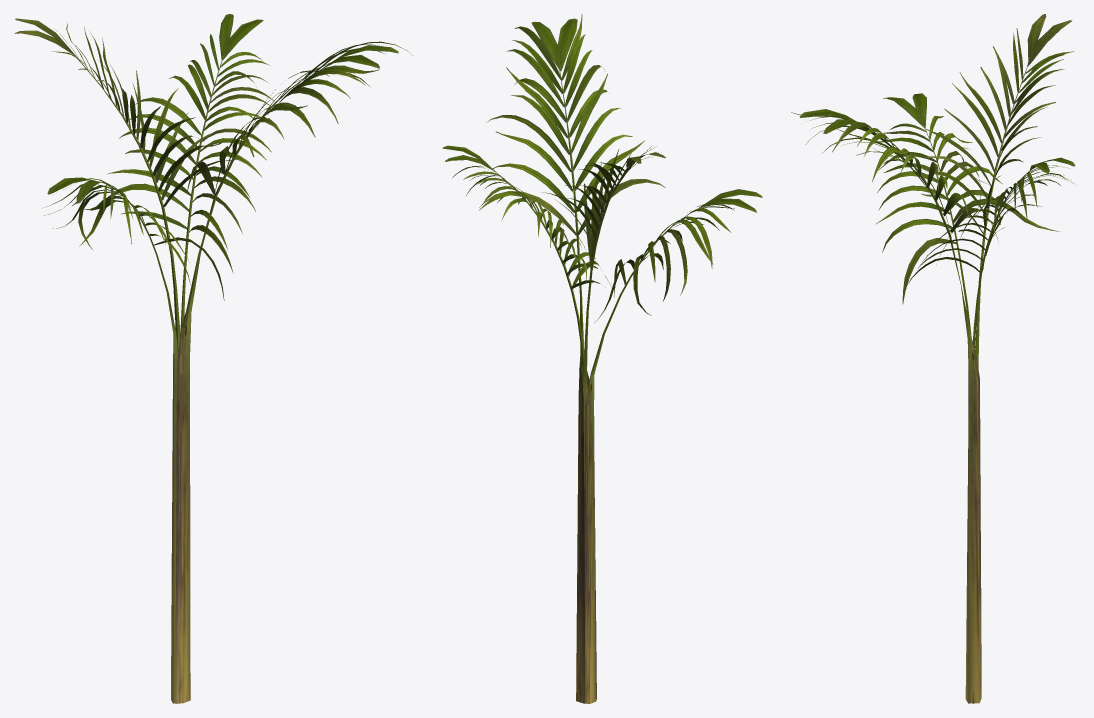
Rendered from tree1.glb.
3 views of the same model, side by side, from view 1: azimuth 30°, elevation 25°; view 2: azimuth 150°, elevation 25°; view 3: azimuth 270°, elevation 25° (orthographic). The views are drawn at different scales.
Visible parts, largest first — view 1: SM_Tree_01; view 2: SM_Tree_01; view 3: SM_Tree_01.
Part boxes in pixels (bbox=[...]): SM_Tree_01: bbox=[14, 14, 413, 703]; SM_Tree_01: bbox=[442, 14, 762, 703]; SM_Tree_01: bbox=[791, 14, 1075, 703].
Bounding box in the file's own units: 0.2344 × 0.474 × 0.1955.
Materials: 1 (1 with a texture image).
